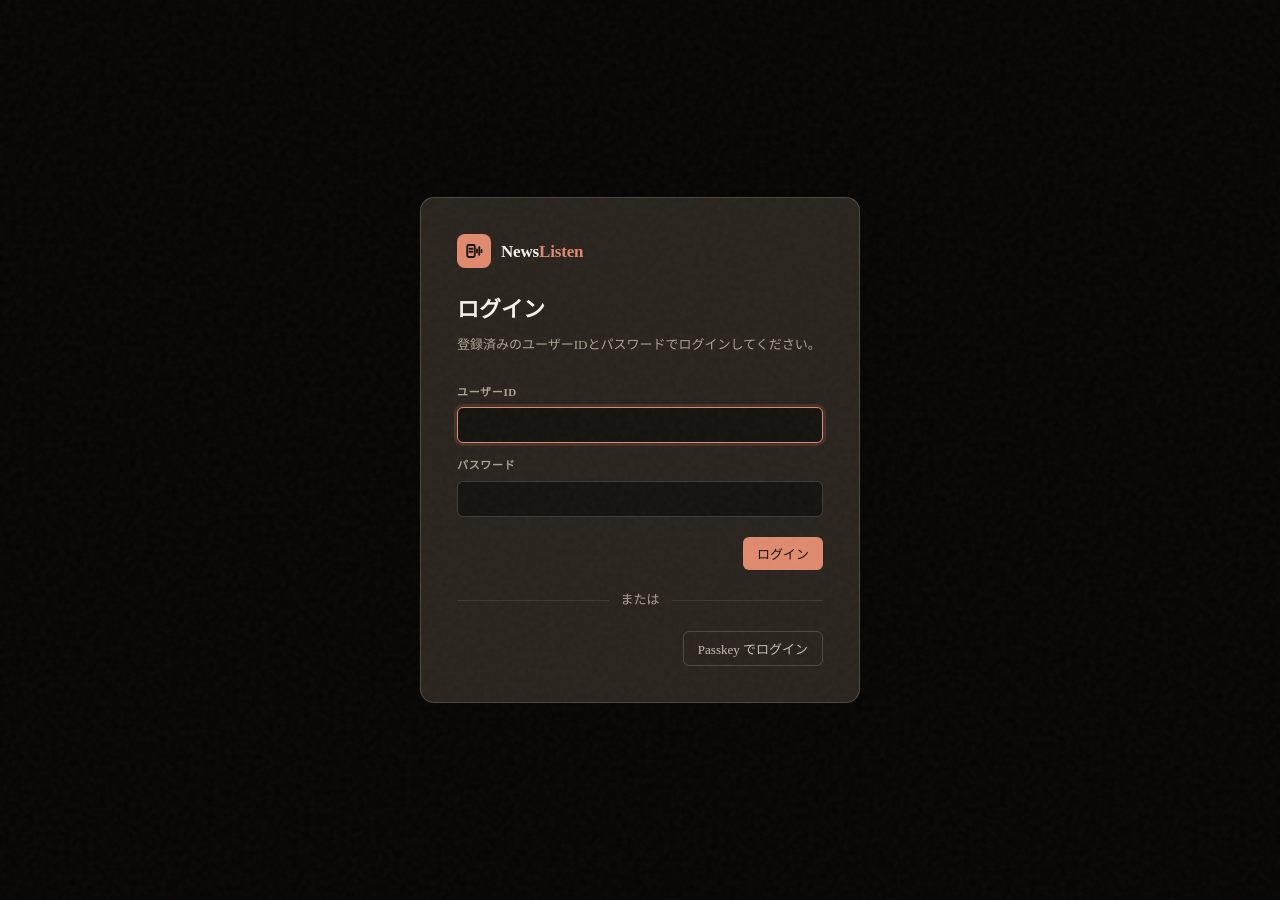
LoginModal — Passkey ボタン › 処理中は「認証中…」テキストが表示され重複クリックを防ぐ
What coordinates should you click on to do the following:
click the button "Passkey でログイン"
I would click on:
 (753, 648)
Its box is [683,631,823,666].
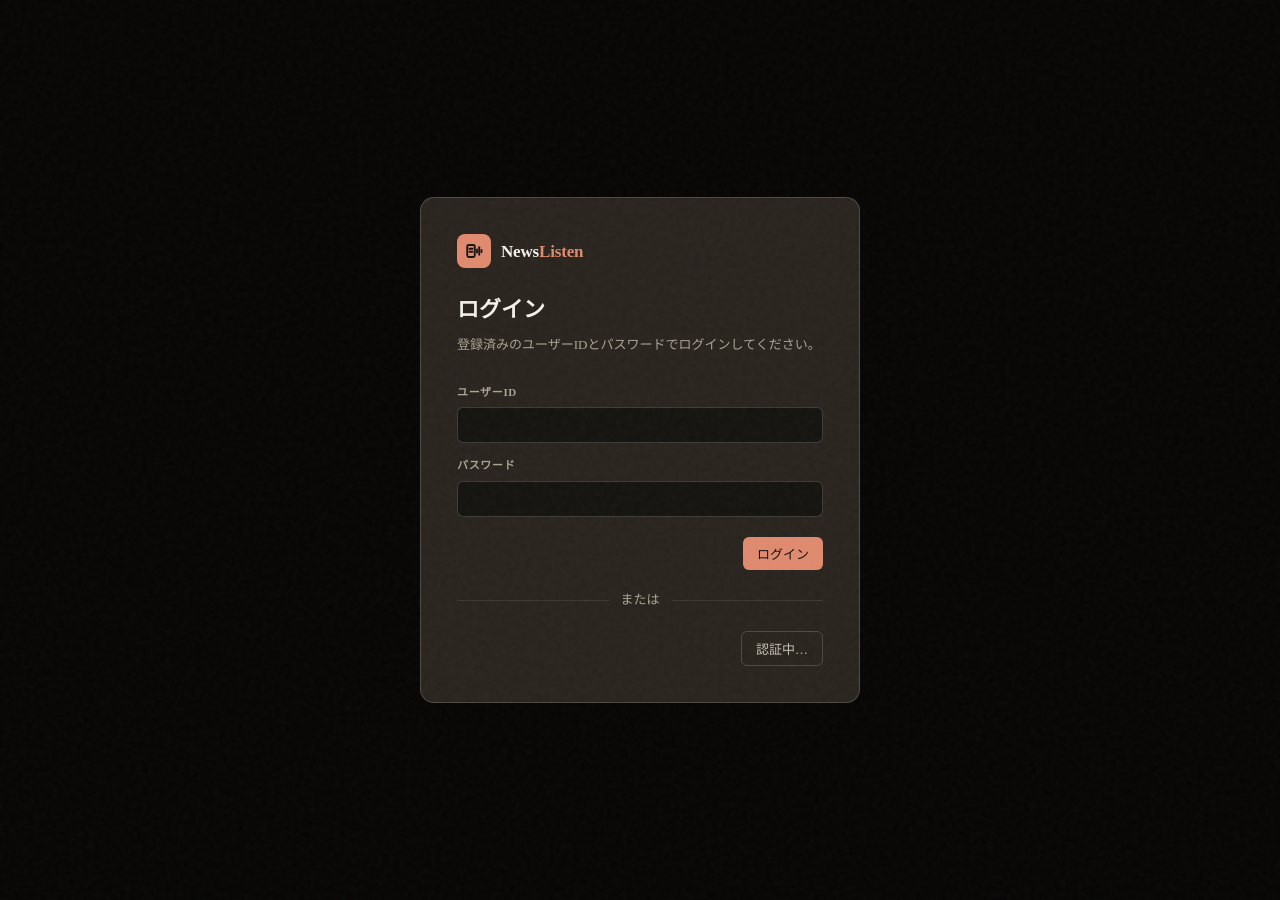
Result: the button "認証中…" is disabled at [741,631,823,666]
